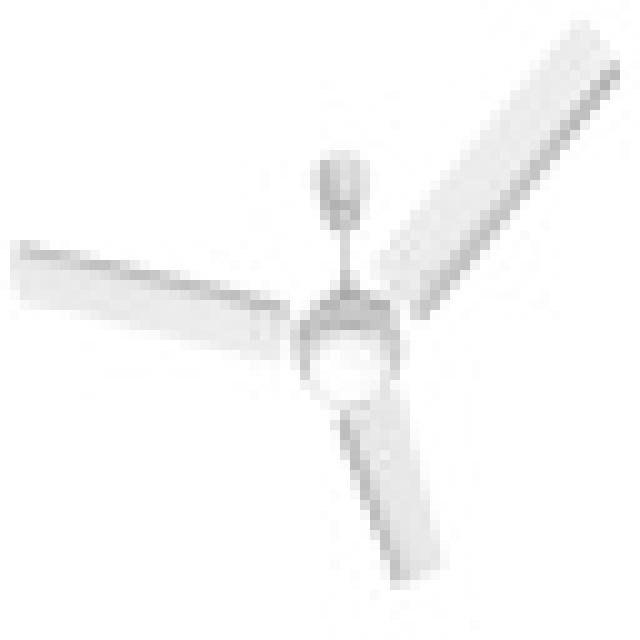Bulb: (6, 42, 624, 604)
